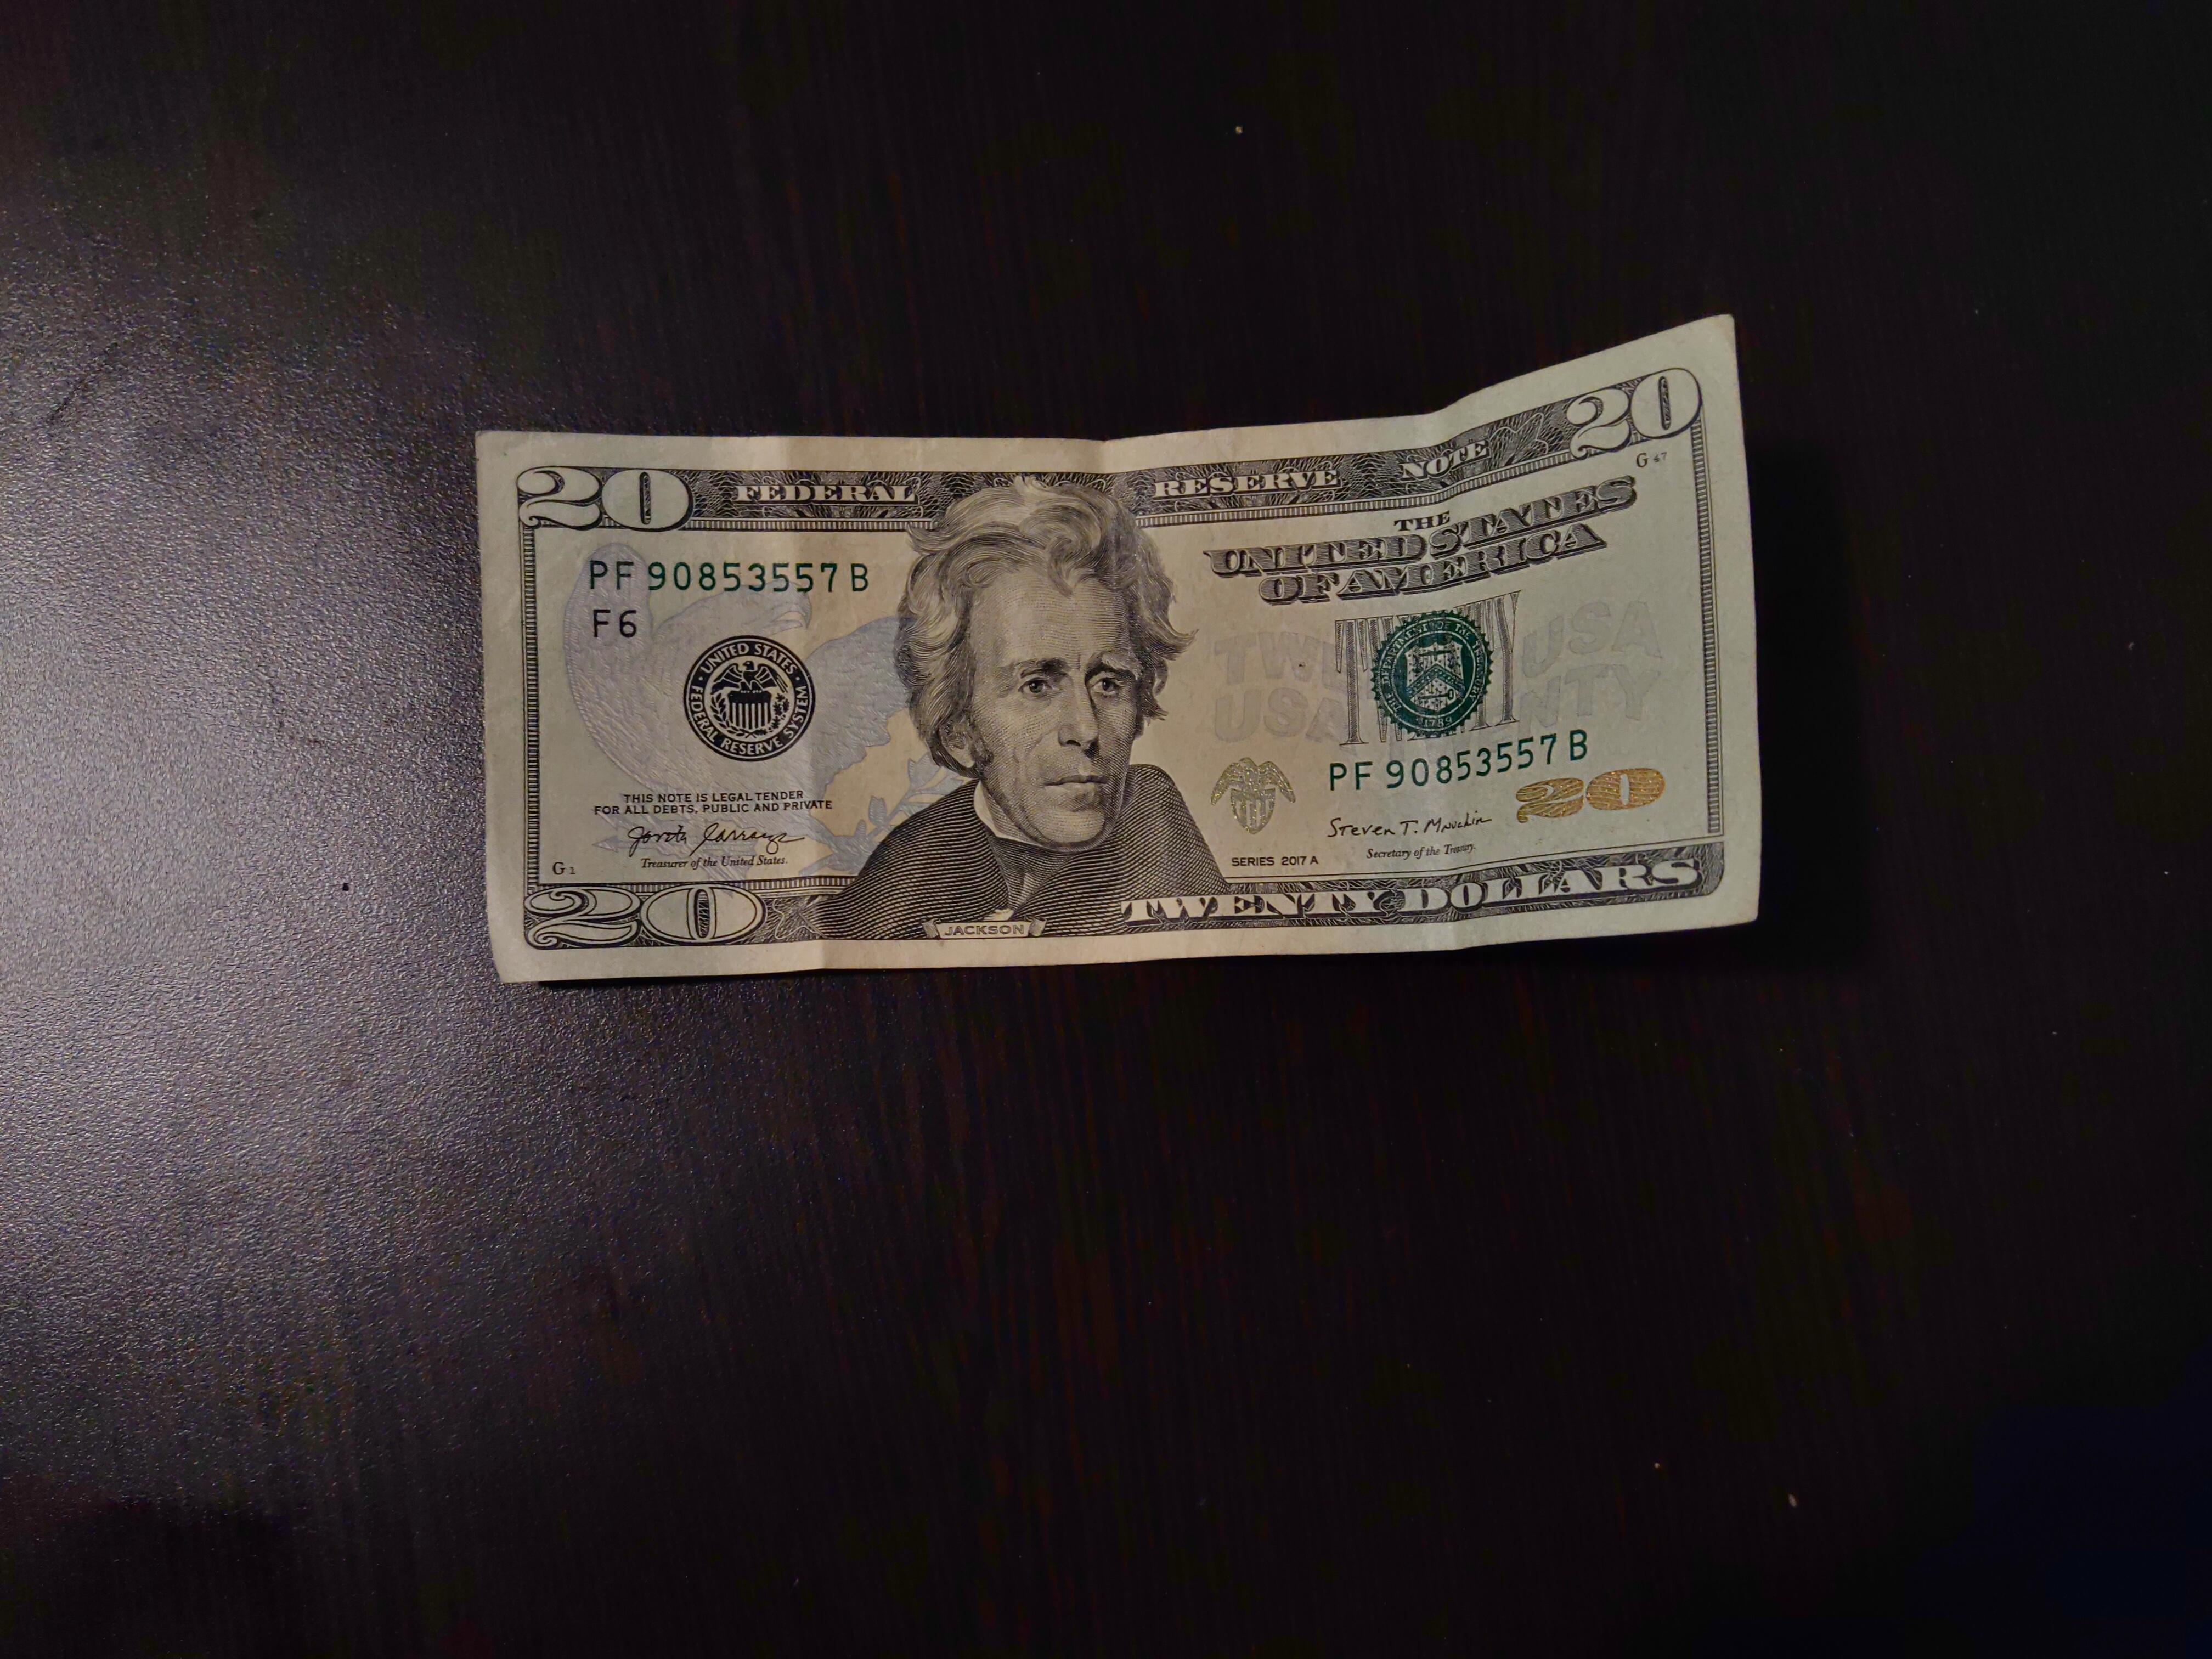TwentyBill: (465, 307, 1770, 988)
